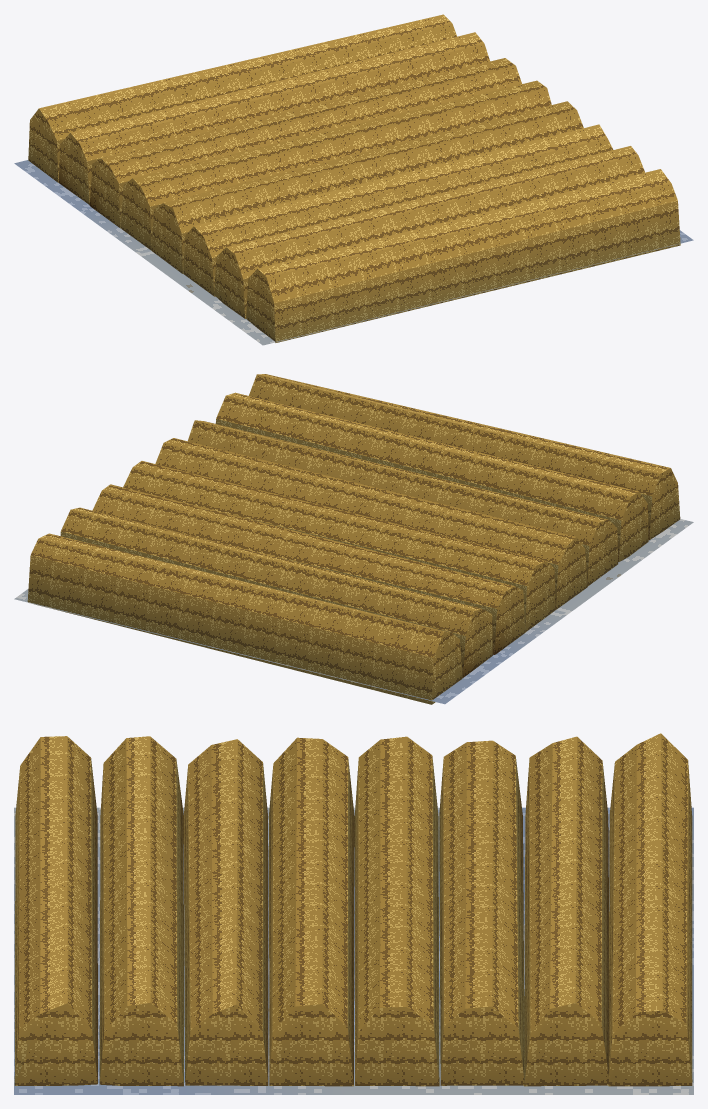
The model's file is mnat.field.glb.
The picture shows the model from 3 angles, top to bottom: view 1: azimuth 30°, elevation 25°; view 2: azimuth 150°, elevation 25°; view 3: azimuth 270°, elevation 25°; orthographic projection. The views are drawn at different scales.
Parts seen in each view (by area): view 1: kit_crop, kit_shell_soil; view 2: kit_crop, kit_shell_soil; view 3: kit_crop, kit_shell_soil.
Part boxes in pixels (bbox=[...]): kit_crop: bbox=[28, 14, 680, 342]; kit_shell_soil: bbox=[14, 160, 693, 345]; kit_crop: bbox=[27, 374, 680, 704]; kit_shell_soil: bbox=[14, 519, 693, 704]; kit_crop: bbox=[14, 733, 692, 1086]; kit_shell_soil: bbox=[14, 807, 693, 1094].
Bounding box in the file's own units: 8 × 1.16 × 8.
Materials: 2 (2 with a texture image).
